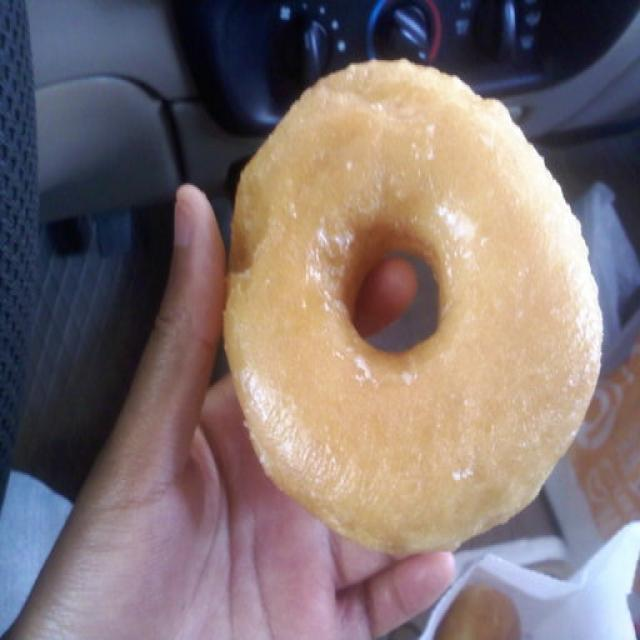Donuts: (210, 47, 640, 595)
